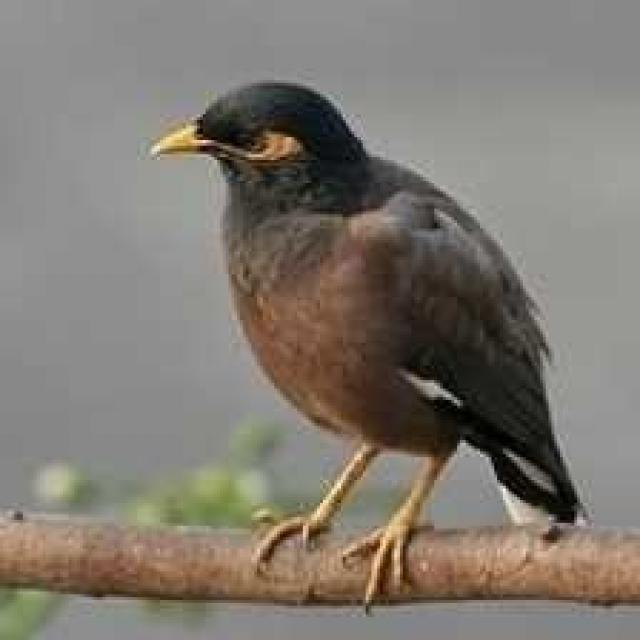bird: (143, 75, 603, 616)
